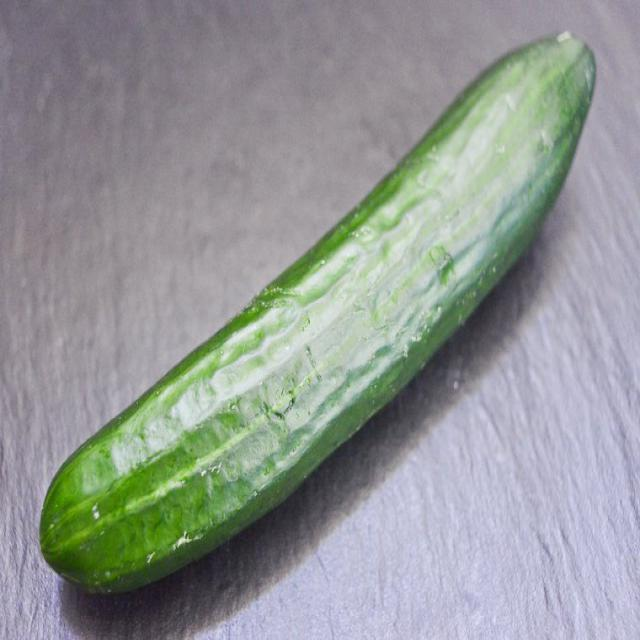cucumber: (34, 28, 600, 604)
